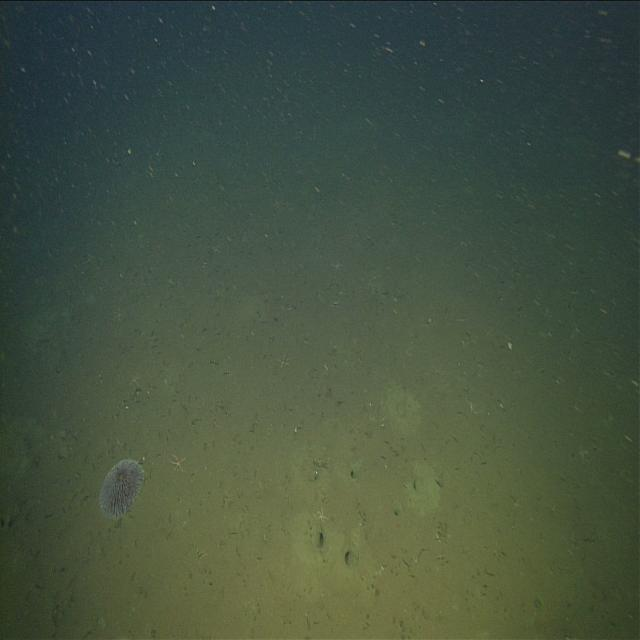Brittle Star: (169, 450, 188, 474), (276, 349, 290, 369)
